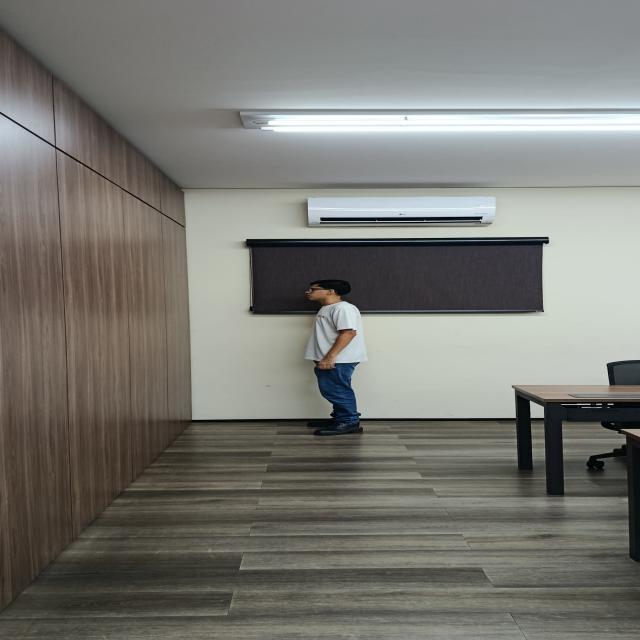oculos-epi: (308, 289, 332, 292)
